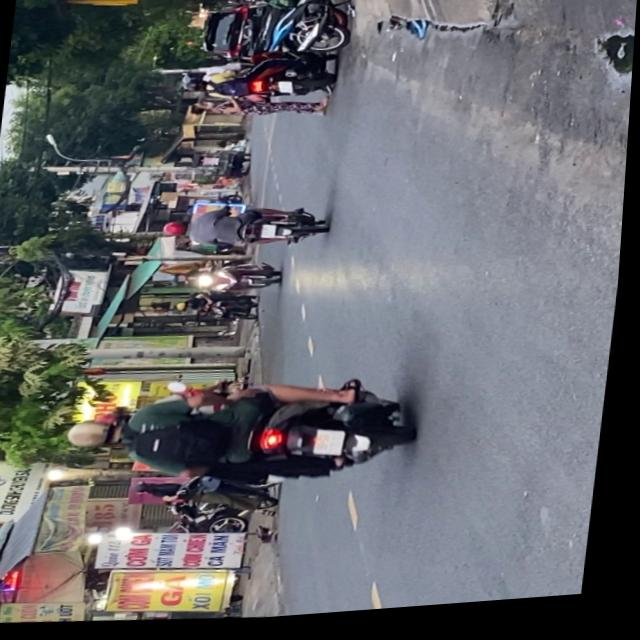helmet: (71, 418, 131, 454), (164, 223, 192, 241), (182, 81, 210, 96), (182, 72, 208, 86)
licenseplate: (63, 364, 429, 507), (162, 201, 334, 262), (179, 52, 341, 113)
nohelmet: (319, 433, 352, 462), (264, 227, 281, 243), (278, 84, 296, 98)
